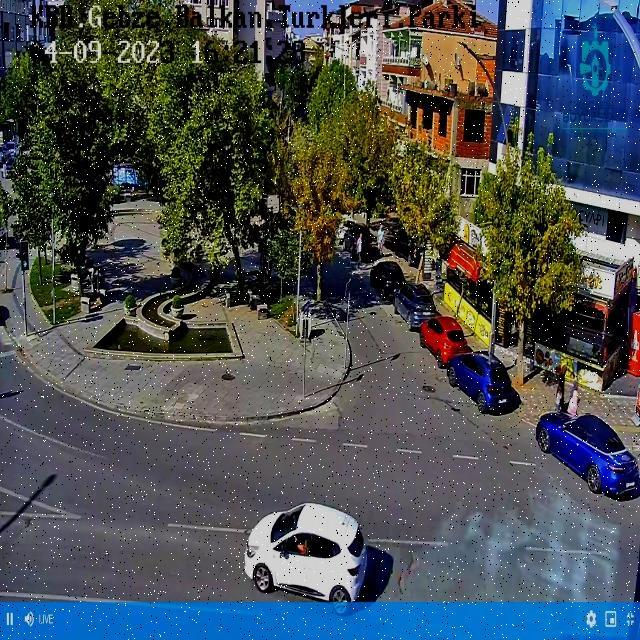Car: (242, 501, 367, 617), (534, 409, 640, 497), (446, 350, 512, 414), (419, 315, 468, 370), (393, 282, 436, 331), (370, 261, 406, 300), (344, 222, 372, 256)
